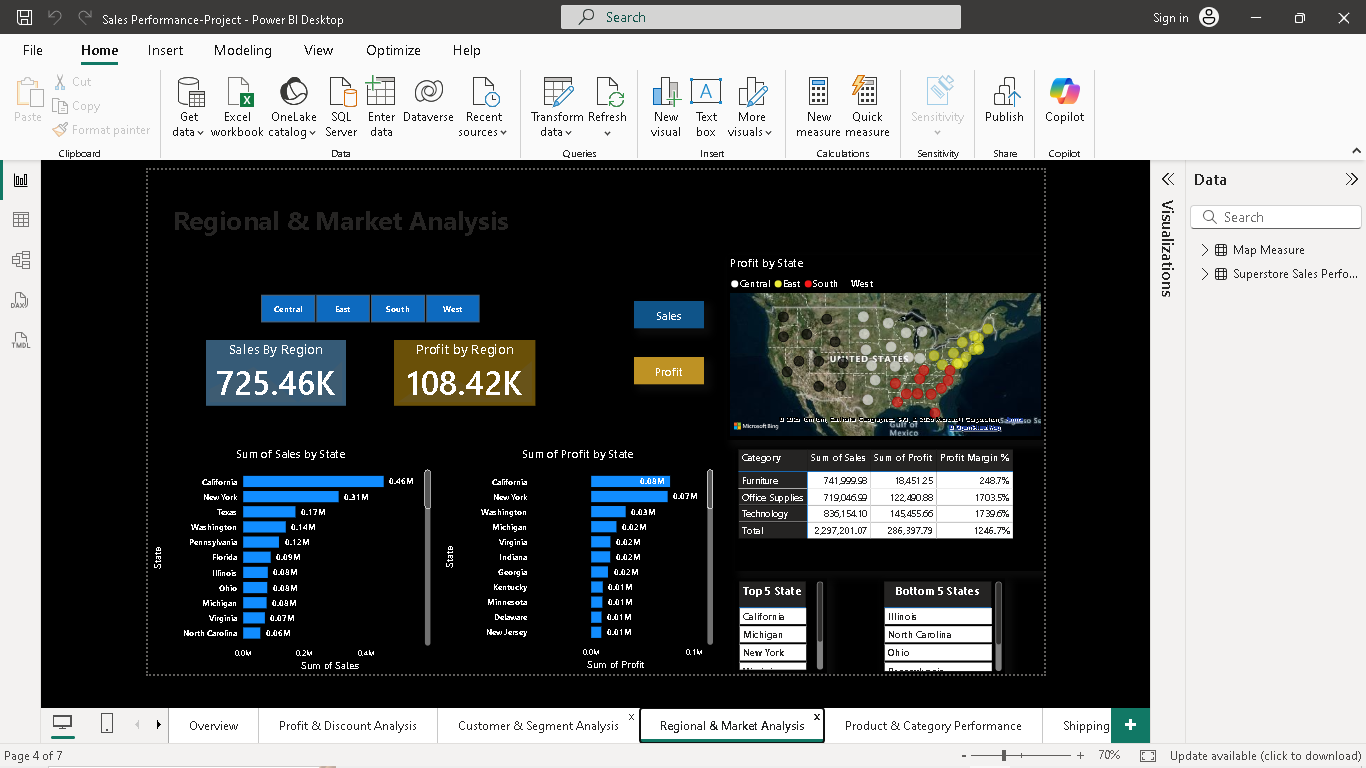

Layout of this report page (visuals, bound fields, positions):
{"tool":"powerbi","page":{"name":"Regional & Market Analysis","canvas":[1280,720],"ordinal":3},"visuals":[{"type":"kpi","title":" Sales By Region","fields":{"Indicator":["Sum(Superstore Sales Performance.Sales)"],"TrendLine":["Superstore Sales Performance.Region"]},"box":[83.3,242.2,199.9,94.4],"z":0},{"type":"kpi","title":"Profit by Region","fields":{"Indicator":["Sum(Superstore Sales Performance.Profit)"],"TrendLine":["Superstore Sales Performance.Region"]},"box":[352,242.2,202.1,94.4],"z":1000},{"type":"clusteredBarChart","fields":{"Category":["Superstore Sales Performance.State"],"Y":["Sum(Superstore Sales Performance.Sales)"]},"box":[0,393.8,408.6,326.2],"z":2000},{"type":"clusteredBarChart","fields":{"Category":["Superstore Sales Performance.State"],"Y":["Sum(Superstore Sales Performance.Profit)"]},"box":[417.5,393.8,395,325],"z":3000},{"type":"tableEx","fields":{"Values":["Superstore Sales Performance.State"]},"box":[838.8,582.5,131.2,136.2],"z":4000},{"type":"tableEx","title":"Bottom 5 States","fields":{"Values":["Superstore Sales Performance.State"]},"box":[1045,582.5,178.8,137.5],"z":5000},{"type":"slicer","fields":{"Values":["Superstore Sales Performance.Region"]},"box":[135.5,171.1,362,53.3],"z":6000},{"type":"actionButton","box":[694,187.7,99.9,38.9],"z":7000},{"type":"actionButton","title":"Profit","box":[694,267.6,99.9,38.9],"z":8000},{"type":"map","title":"Profit by State","fields":{"Category":["Superstore Sales Performance.State"],"Series":["Superstore Sales Performance.Region"]},"box":[827.3,121,453.1,264.3],"z":10000},{"type":"pivotTable","fields":{"Values":["Sum(Superstore Sales Performance.Sales)","Sum(Superstore Sales Performance.Profit)","Superstore Sales Performance.Profit Margin %"],"Rows":["Superstore Sales Performance.Category"]},"box":[838.8,393.8,441.2,177.5],"z":11000},{"type":"textbox","box":[30,40,545,67.5],"z":11001}]}

Visuals, with their boxes on the page's 1280x720 design canvas (x1, y1, x2, y2). These are canvas units, not pixel positions in the 1366x768 screenshot, which may show the page scaled, cropped or inside an application window:
" Sales By Region" kpi: box=[83, 242, 283, 337]
"Profit by Region" kpi: box=[352, 242, 554, 337]
clusteredBarChart - Superstore Sales Performance.State x Sum(Superstore Sales Performance.Sales): box=[0, 394, 409, 720]
clusteredBarChart - Superstore Sales Performance.State x Sum(Superstore Sales Performance.Profit): box=[418, 394, 812, 719]
tableEx - Superstore Sales Performance.State: box=[839, 582, 970, 719]
"Bottom 5 States" tableEx: box=[1045, 582, 1224, 720]
slicer - Superstore Sales Performance.Region: box=[136, 171, 498, 224]
actionButton: box=[694, 188, 794, 227]
"Profit" actionButton: box=[694, 268, 794, 306]
"Profit by State" map: box=[827, 121, 1280, 385]
pivotTable - Sum(Superstore Sales Performance.Sales) x Sum(Superstore Sales Performance.Profit): box=[839, 394, 1280, 571]
textbox: box=[30, 40, 575, 108]
